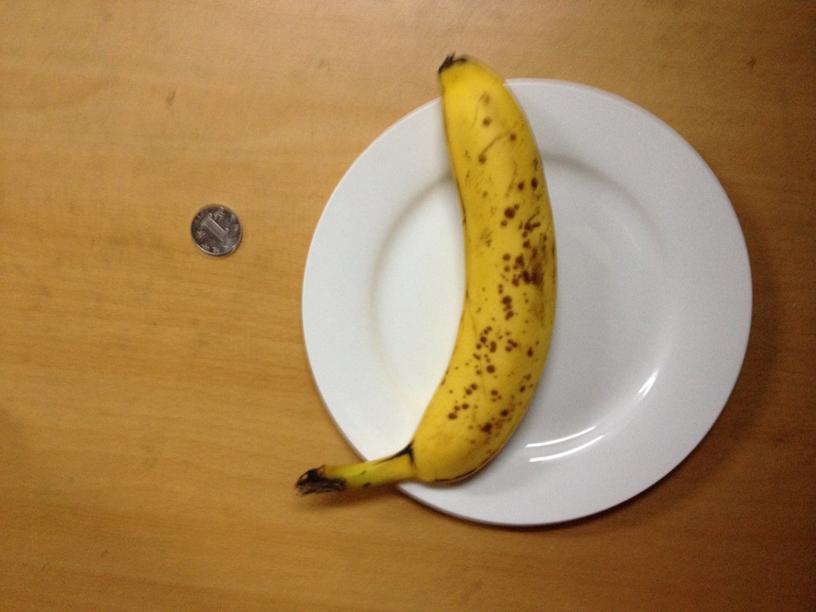banana: (338, 50, 557, 489)
coin: (191, 203, 243, 256)
